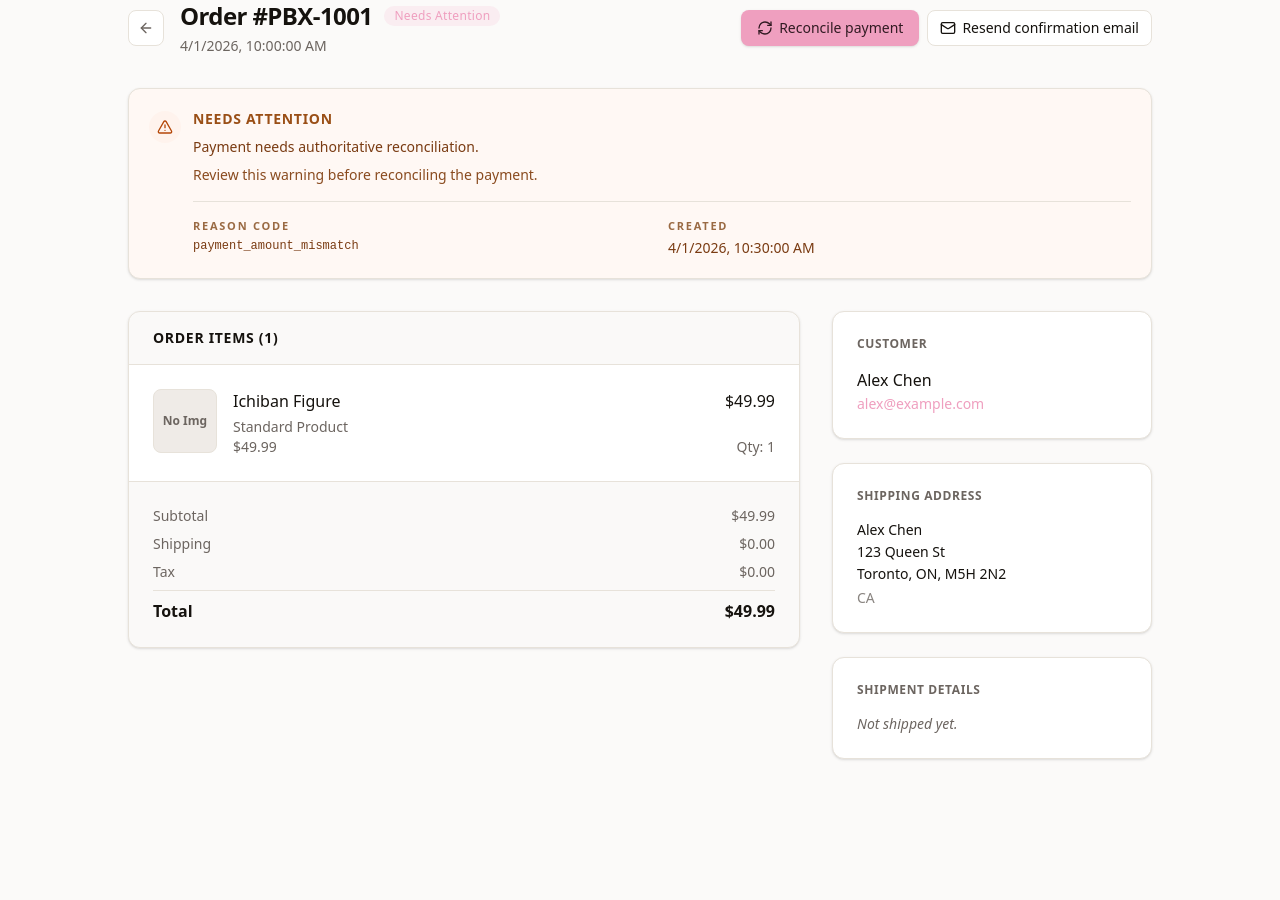
Test: AdminOrderDetailPageClient › reports a committed recovery when confirmation email delivery fails
This screenshot has width=1280, height=900.
Click the button "Reconcile payment": (830, 28) [741, 10, 919, 46]
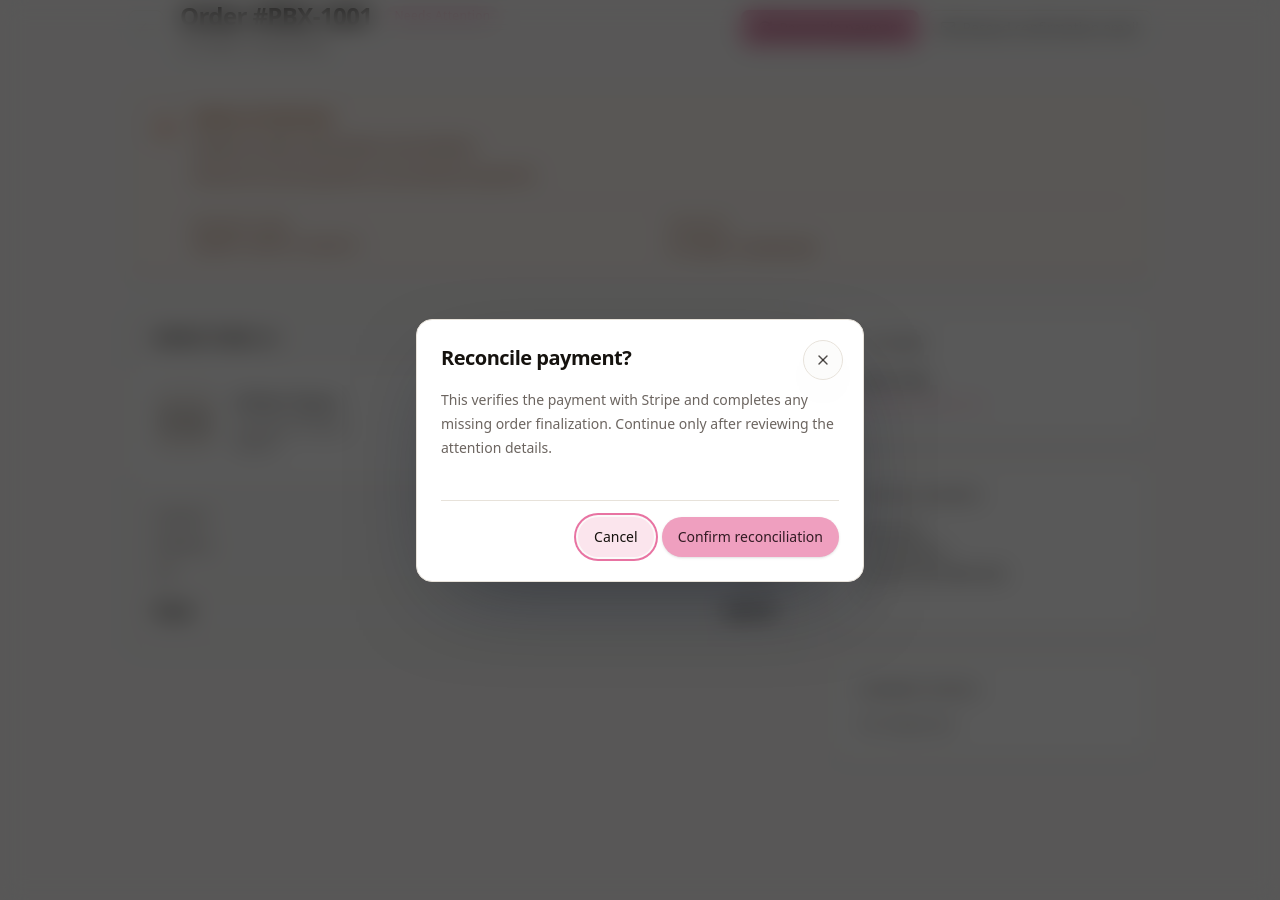
Click the button "Confirm reconciliation": (750, 536) [662, 516, 839, 556]
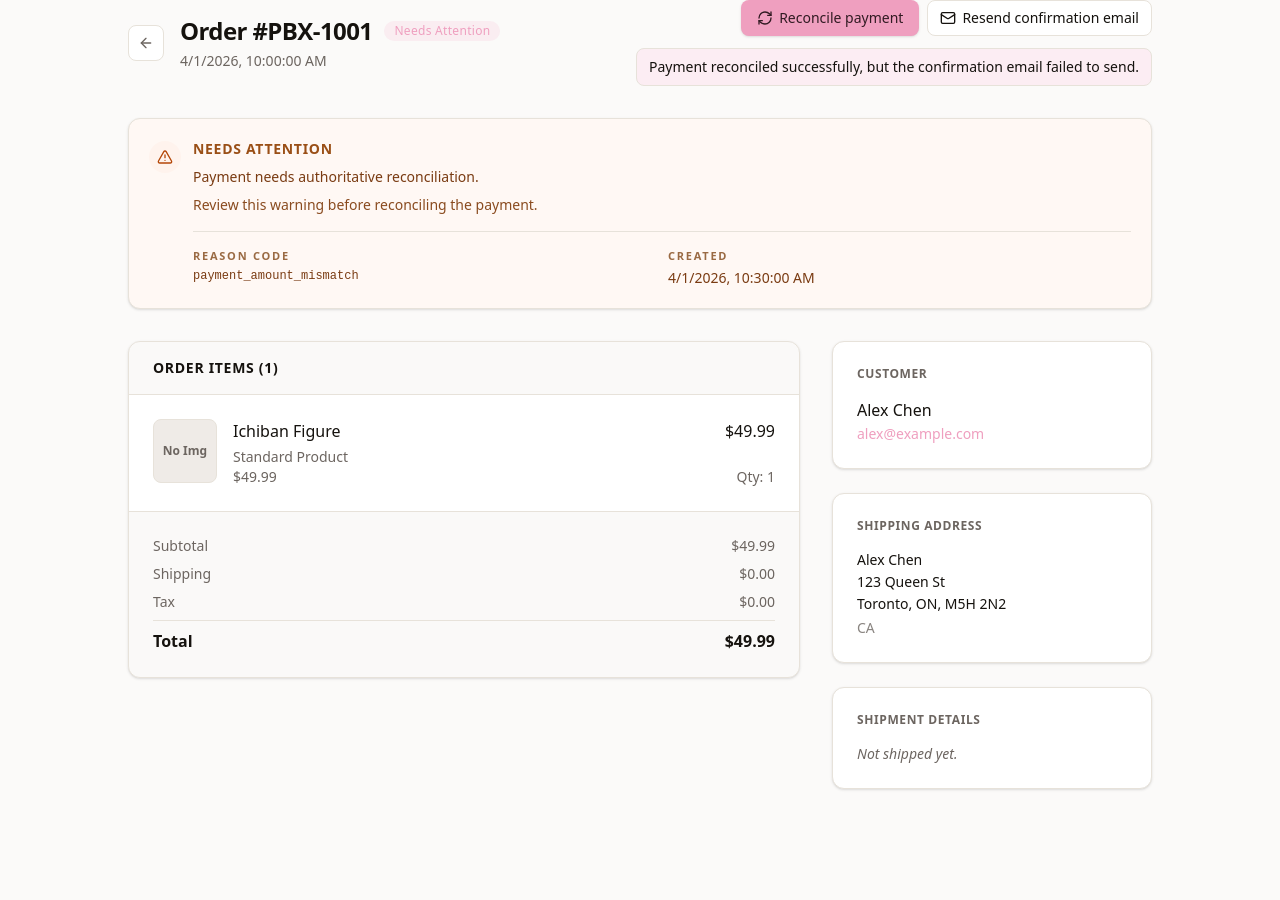
Expected: the message reads "Payment reconciled successfully, but the confirmation email failed to send.", [649, 57, 1139, 76]
